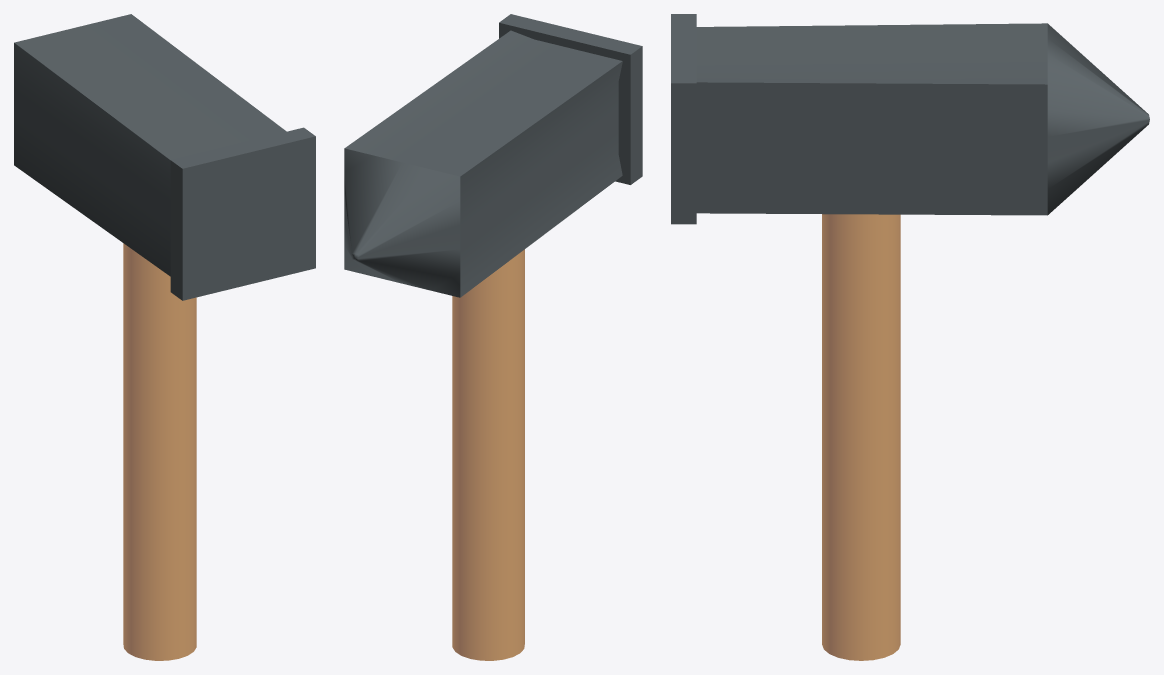
Rendered from Hammer.fbx.
3 views of the same model, side by side, from view 1: azimuth 30°, elevation 25°; view 2: azimuth 150°, elevation 25°; view 3: azimuth 270°, elevation 25° (orthographic). The views are drawn at different scales.
Visible parts, largest first — view 1: pCube1, pCylinder1, pCube2; view 2: pCube1, pCylinder1, pCube2; view 3: pCube1, pCylinder1, pCube2.
Boxes of the visible parts, x1,y1,x2,y2 form: pCube1: (14,14,286,276); pCylinder1: (123,243,196,660); pCube2: (170,127,315,300); pCube1: (344,30,622,297); pCylinder1: (452,249,524,660); pCube2: (499,14,642,184); pCube1: (696,23,1149,215); pCylinder1: (822,214,900,660); pCube2: (671,14,696,224).
Bounding box in the file's own units: 8.48 × 33.89 × 24.69.
